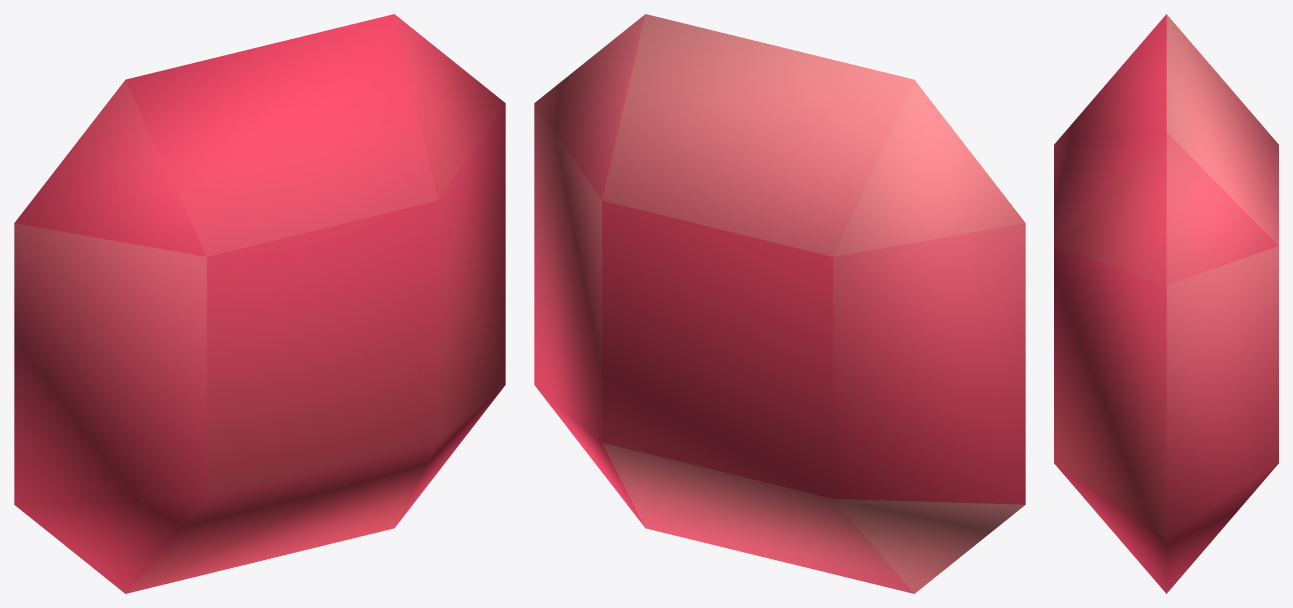
Rendered from Radiant.fbx.
The picture shows the model from 3 angles, left to right: view 1: azimuth 30°, elevation 25°; view 2: azimuth 150°, elevation 25°; view 3: azimuth 270°, elevation 25°; orthographic projection. The views are drawn at different scales.
Parts seen in each view (by area): view 1: Gem-Radiant; view 2: Gem-Radiant; view 3: Gem-Radiant.
Part boxes in pixels (x1,y1,x2,y2): Gem-Radiant: (14, 14, 505, 593); Gem-Radiant: (534, 14, 1025, 593); Gem-Radiant: (1054, 14, 1278, 593).
Bounding box in the file's own units: 1.85 × 1.85 × 0.8168.
